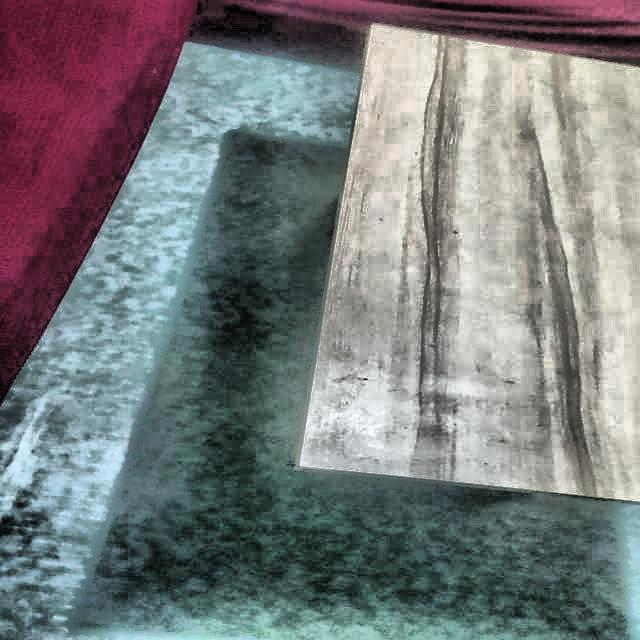mesa: (285, 21, 640, 516)
